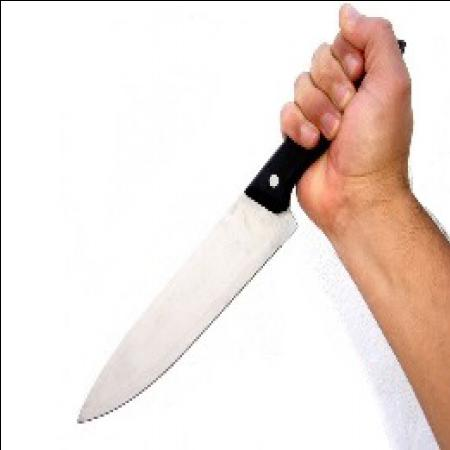long weapon: (67, 54, 363, 422)
